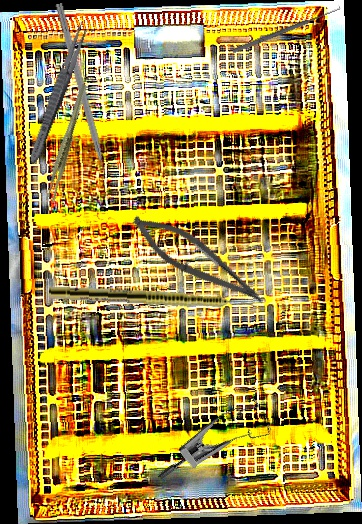Chopper: (45, 2, 111, 188)
Dressing Forceps: (25, 18, 92, 167)
Handpiece: (48, 285, 263, 313)
Hook Surgical: (229, 0, 343, 56)
Micro Scissor: (122, 205, 276, 313)
Speculum: (156, 382, 281, 514)
Tissue Forceps: (26, 82, 108, 204)
